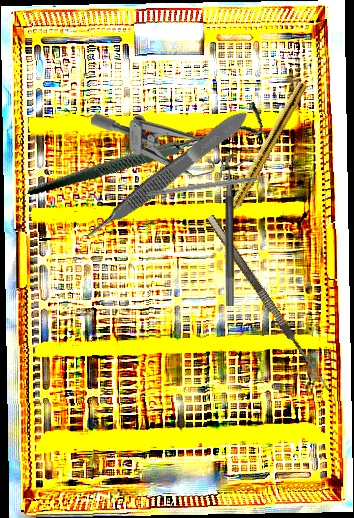Fixation Ring: (225, 154, 247, 306)
Handpiece: (218, 79, 308, 227)
Hook Surgical: (27, 63, 267, 236), (206, 207, 342, 396), (146, 172, 278, 199)
Speculum: (90, 112, 238, 180)
Tissue Forceps: (78, 106, 253, 245)
